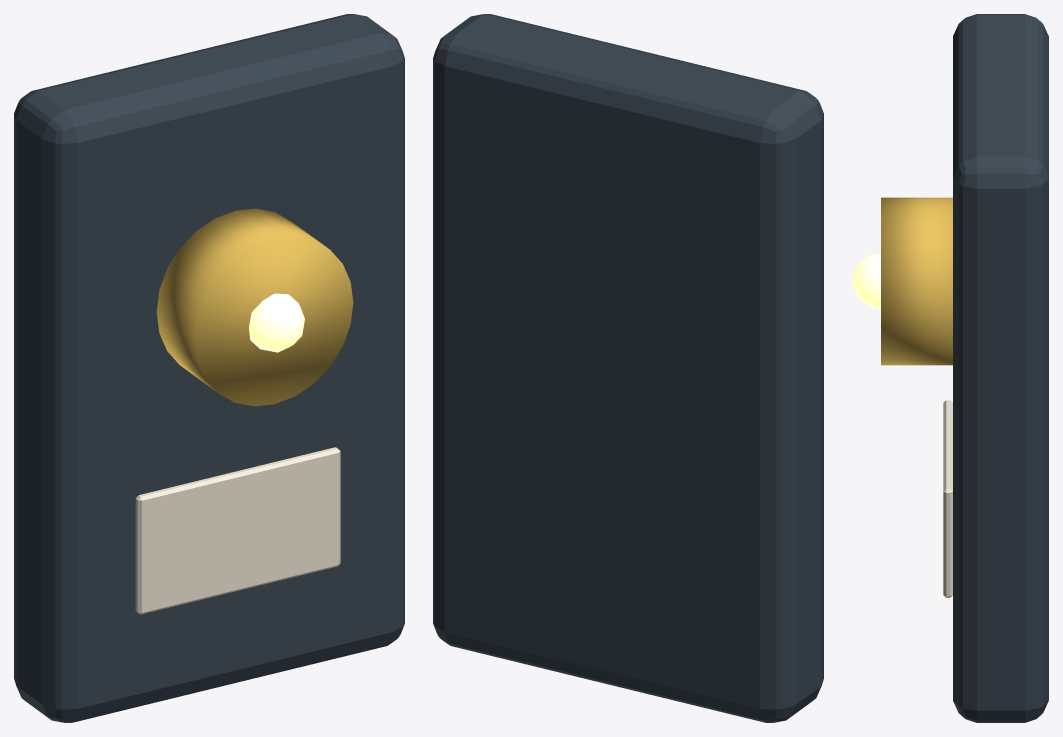
Rendered from doorbell.glb.
3 views of the same model, side by side, from view 1: azimuth 30°, elevation 25°; view 2: azimuth 150°, elevation 25°; view 3: azimuth 270°, elevation 25° (orthographic). The views are drawn at different scales.
Visible parts, largest first — view 1: plate, button, label, button-light; view 2: plate; view 3: plate, button, label, button-light.
Boxes of the visible parts, left/top/right/bottom form: plate: left=14, top=14, right=404, bottom=722; button: left=156, top=208, right=353, bottom=406; label: left=135, top=447, right=340, bottom=614; button-light: left=249, top=293, right=304, bottom=352; plate: left=433, top=14, right=823, bottom=722; plate: left=953, top=14, right=1048, bottom=722; button: left=881, top=197, right=952, bottom=365; label: left=943, top=400, right=952, bottom=597; button-light: left=852, top=254, right=880, bottom=308.
Size of the model in its own units: 0.16 by 0.26 by 0.082.
